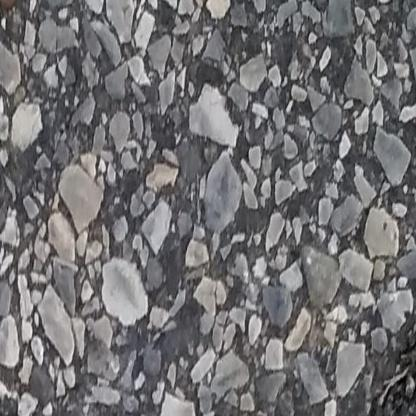Cracks: (335, 289, 416, 416)
